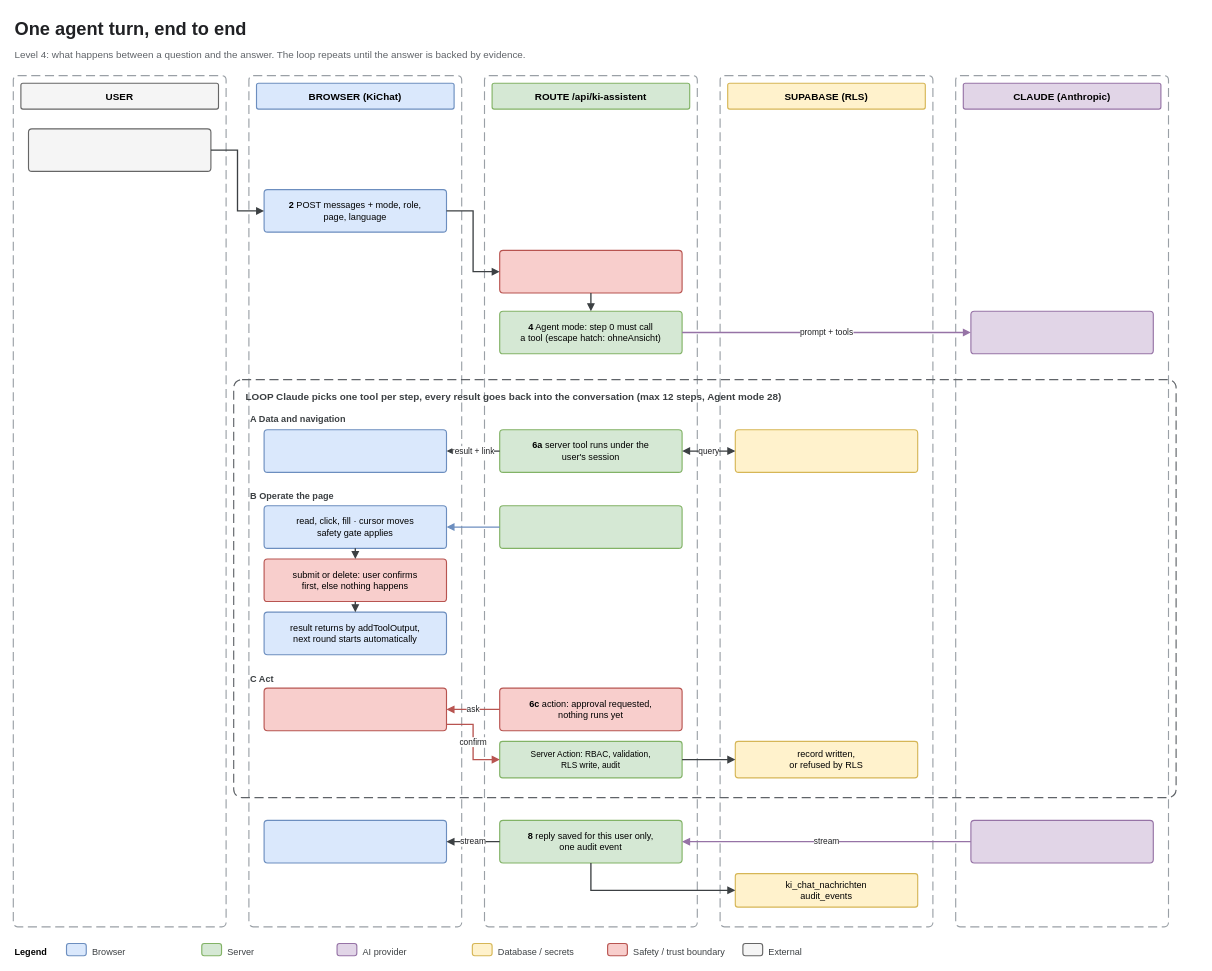
Some shapes in this 1212 by 971 pixel diagram are drawn without their labels. Each missing label, with the centre of its shape:
1 asks or gives a task "show me the risks", "record an incident": point 119,150
3 guardrails, prompt, tool set for this role and mode: point 590,271
5 decides: one tool per step, in a sensible order, narrates: point 1062,332
6b client tool: no server work, the call streams to the browser: point 590,527
7 final answer, word by word sources labelled: data or general knowledge: point 1062,841
9 answer rendered, steps clickable, the page shows the change: point 355,841
approval card: user confirms or declines: point 355,709
rows this role may see, plus a link to where they live: point 826,451
tour: the main window opens the page, scrolls, highlights: point 355,451
